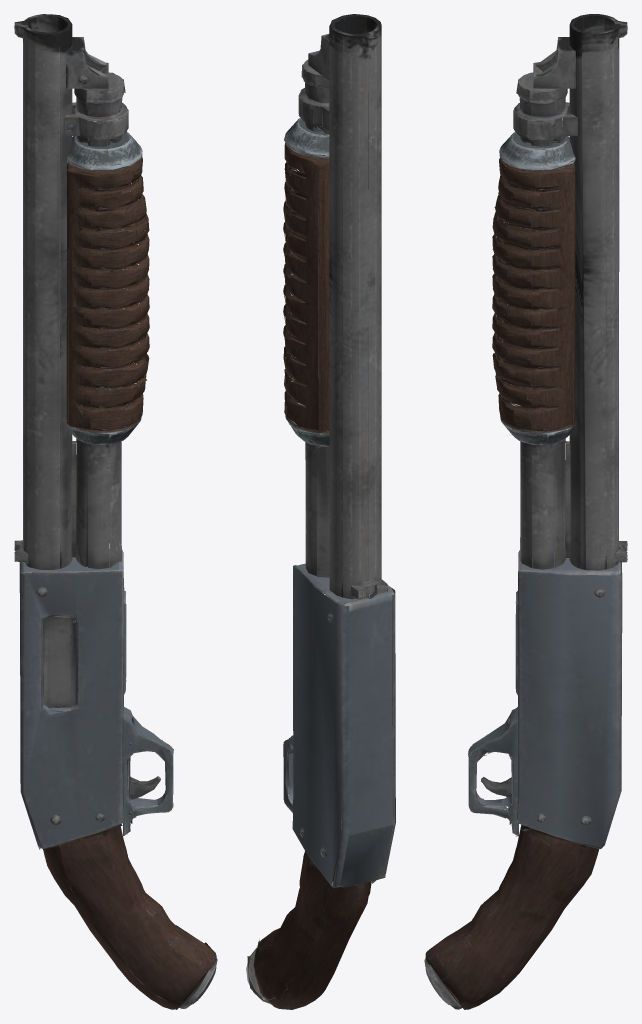
File: shotgun.glb
The picture shows the model from 3 angles, left to right: view 1: azimuth 90°, elevation 25°; view 2: azimuth 210°, elevation 25°; view 3: azimuth 270°, elevation 25°; orthographic projection. The views are drawn at different scales.
Parts seen in each view (by area): view 1: w_shotgun; view 2: w_shotgun; view 3: w_shotgun.
Part boxes in pixels (x1,y1,x2,y2): w_shotgun: [14, 14, 217, 1009]; w_shotgun: [246, 14, 395, 1009]; w_shotgun: [424, 14, 627, 1009].
Size of the model in its own units: 0.0493 by 0.6501 by 0.1219.
2 materials, 2 textured.
